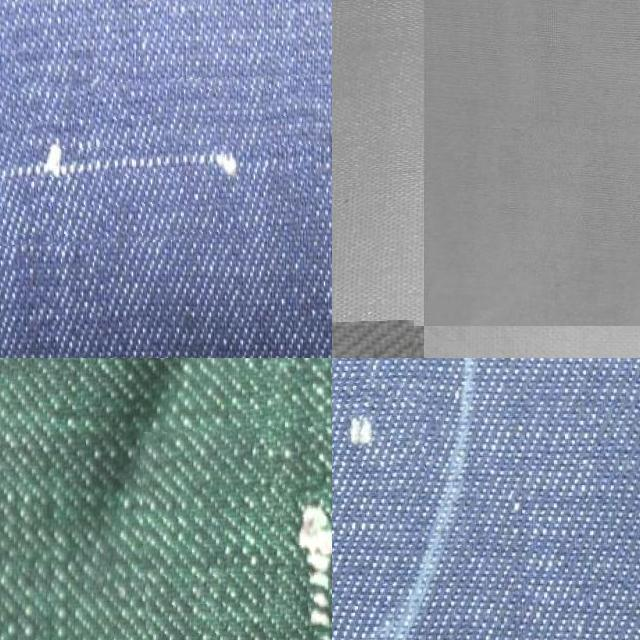stains: (0, 78, 321, 244), (143, 424, 332, 640), (332, 375, 424, 492)
